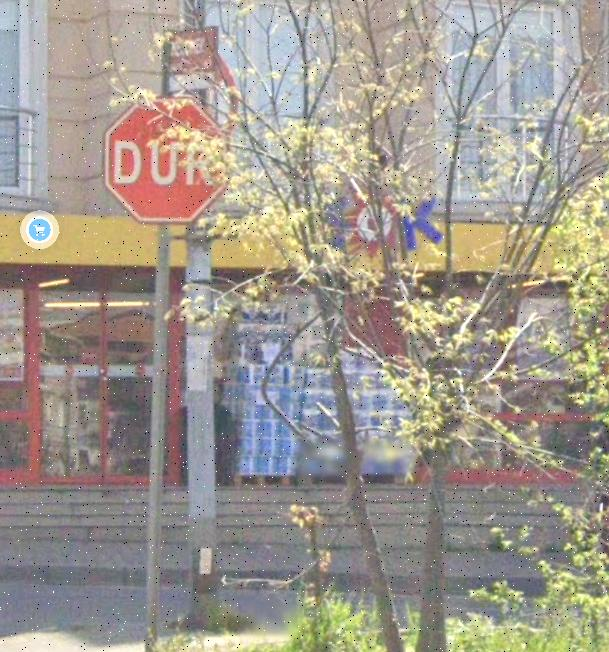stop: (103, 95, 233, 225)
